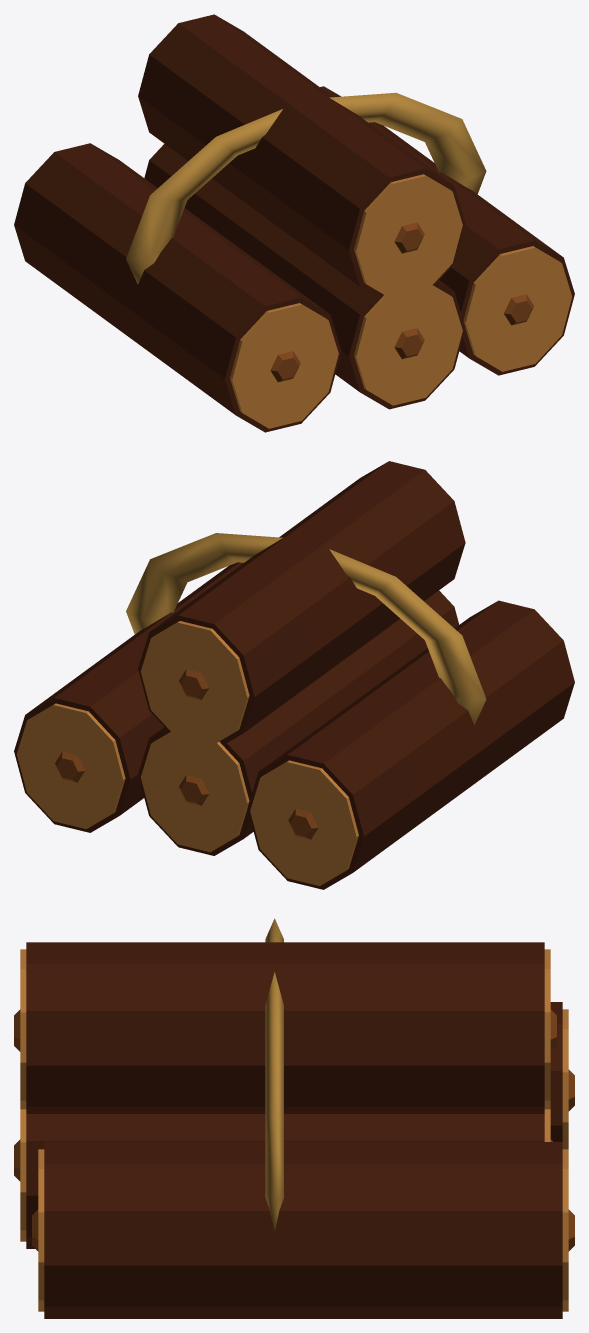
The model's file is pile-wood-4.obj.
3 renders of one model, top to bottom at view 1: azimuth 30°, elevation 25°; view 2: azimuth 150°, elevation 25°; view 3: azimuth 270°, elevation 25°, orthographic. The views are drawn at different scales.
Parts seen in each view (by area): view 1: pile-wood-4; view 2: pile-wood-4; view 3: pile-wood-4.
Boxes of the visible parts, x1,y1,x2,y2 form: pile-wood-4: (14,14,574,432); pile-wood-4: (14,461,574,889); pile-wood-4: (14,918,574,1318).
Bounding box in the file's own units: 0.7107 × 0.4368 × 0.779.
1 material, 1 textured.
